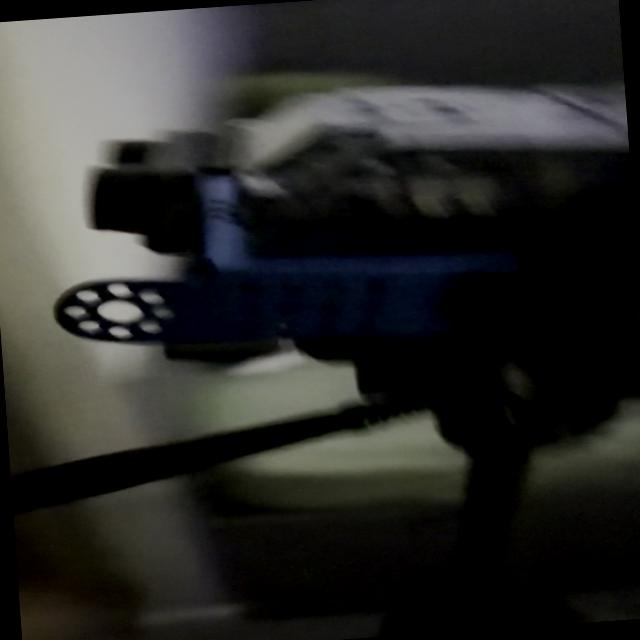mbot-detection: (34, 56, 640, 439)
